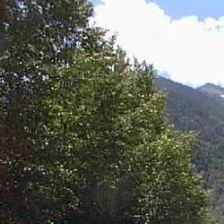neutral: (8, 4, 211, 222)
